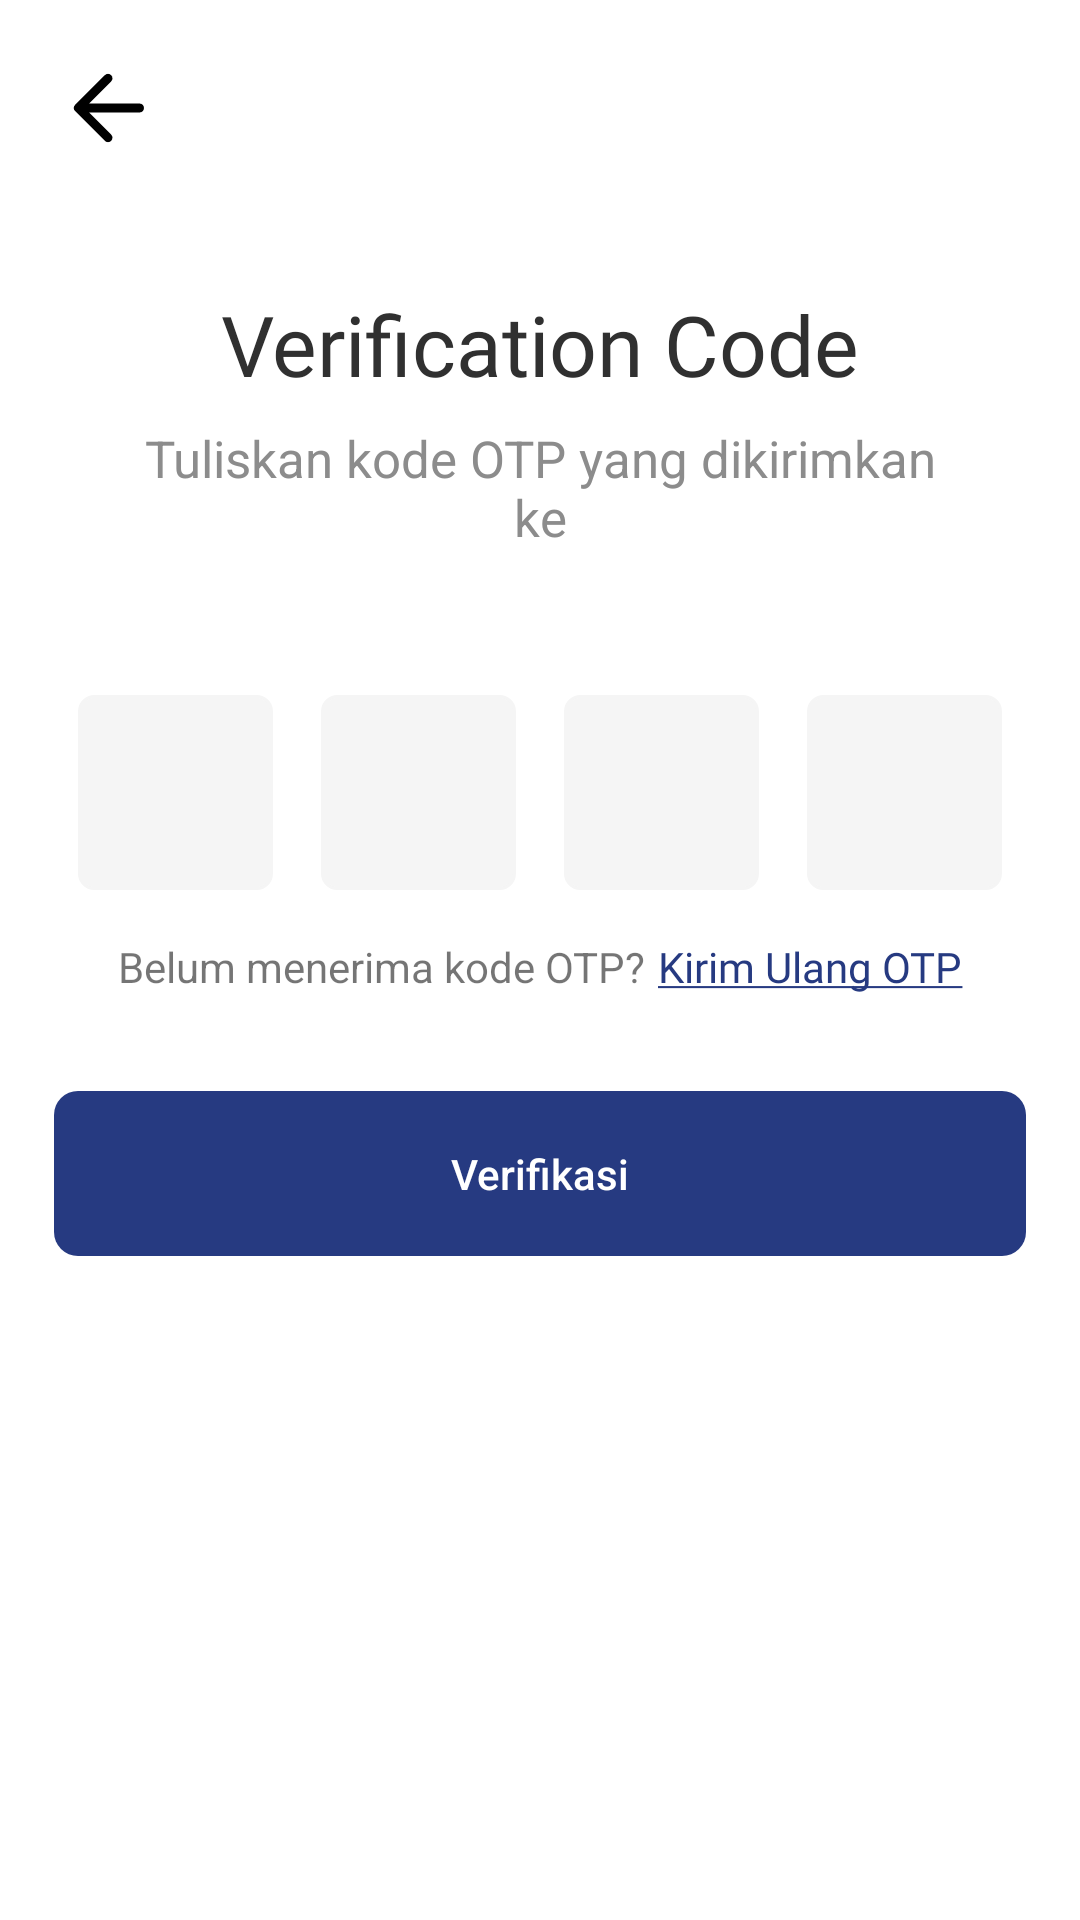

Screen size 1080 × 1920. Icon name, then its box in pixels as (x1=x1, y1=y1, x2=x2, y2=y2):
arrow back: (x1=73, y1=74, x2=144, y2=142)
